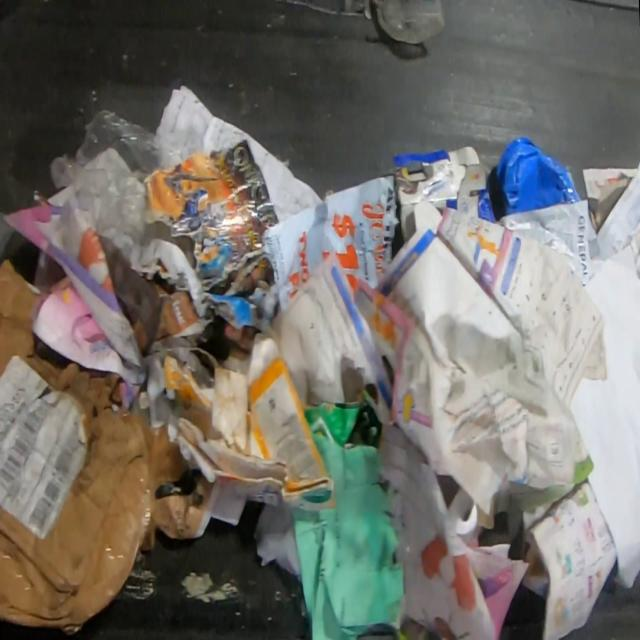cardboard: (0, 256, 186, 639), (146, 348, 338, 513), (392, 143, 497, 244), (302, 382, 382, 449), (581, 167, 638, 236)
rigid_plastic: (494, 134, 582, 215), (371, 0, 446, 45)
soft_plastic: (46, 105, 203, 272)
